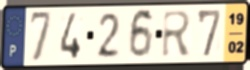2: (95, 11, 122, 61)
4: (58, 11, 83, 62)
6: (125, 7, 156, 62)
7: (195, 9, 224, 59), (28, 10, 53, 64)
R: (160, 9, 193, 60)
